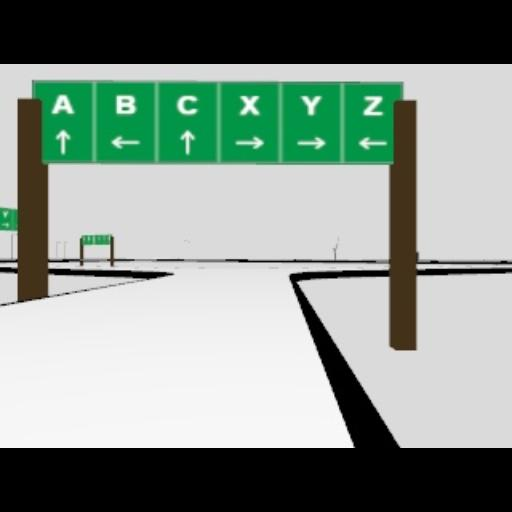A: (50, 92, 74, 114)
B: (115, 92, 137, 114)
C: (176, 94, 198, 116)
Left: (355, 136, 387, 148), (109, 136, 141, 148)
Right: (296, 136, 326, 148), (235, 136, 265, 148)
Straight: (179, 130, 195, 154), (54, 130, 70, 154)
X: (238, 94, 260, 114)
Y: (299, 94, 321, 116)
Z: (362, 94, 384, 116)
